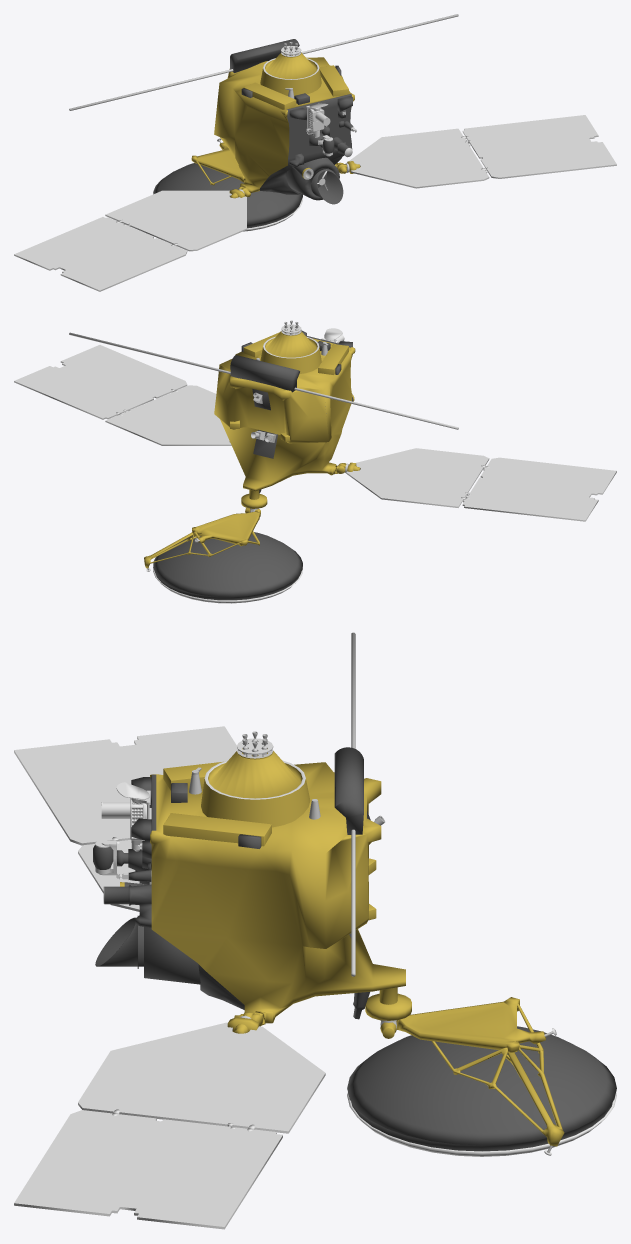
File: MRO_13.fbx
3 views of the same model, one above another, from view 1: azimuth 30°, elevation 25°; view 2: azimuth 150°, elevation 25°; view 3: azimuth 270°, elevation 25° (orthographic). The views are drawn at different scales.
Visible parts, largest first — view 1: MRO; view 2: MRO; view 3: MRO.
Part boxes in pixels (left/top/right/bottom): MRO: left=14, top=14, right=616, bottom=291; MRO: left=14, top=320, right=616, bottom=603; MRO: left=14, top=632, right=616, bottom=1229.
Size of the model in its own units: 1318 by 488 by 671.
